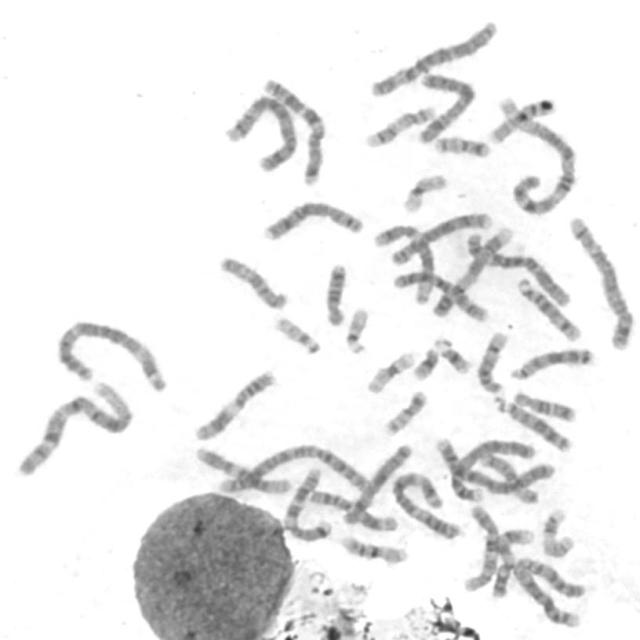A1: (11, 374, 136, 478), (494, 91, 580, 218)
A2: (214, 438, 374, 496), (508, 551, 586, 630)
A3: (50, 313, 170, 394), (386, 466, 463, 542)
B4: (423, 429, 557, 497), (441, 433, 539, 503)
B5: (564, 211, 635, 352), (220, 90, 300, 174)
C10: (389, 266, 491, 323), (460, 501, 503, 594)
C11: (188, 364, 278, 443), (304, 484, 399, 534)
C12: (368, 219, 436, 306), (190, 442, 295, 495)
C6: (365, 15, 500, 99), (461, 225, 574, 308)
C7: (257, 73, 329, 186), (278, 461, 334, 544)
C8: (387, 207, 494, 268), (258, 195, 366, 242)
C9: (425, 222, 516, 319), (458, 522, 537, 593)
D13: (490, 393, 575, 454), (504, 342, 596, 381)
D14: (512, 270, 583, 342), (471, 326, 510, 395)
D15: (213, 250, 290, 312), (476, 447, 542, 505)
E16: (484, 92, 558, 145), (334, 530, 410, 566)
E17: (359, 100, 438, 150), (536, 503, 576, 559)
E18: (508, 385, 578, 424), (319, 258, 349, 328)
F19: (362, 346, 418, 395), (398, 169, 448, 215)
F20: (378, 385, 430, 437), (429, 130, 492, 160)
G21: (430, 331, 474, 376), (407, 341, 442, 382)
G22: (269, 311, 323, 356), (339, 302, 371, 356)
X: (336, 438, 416, 527), (411, 68, 478, 145)
